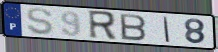8: (183, 18, 207, 45)
9: (59, 9, 83, 37)
B: (119, 13, 148, 42)
I: (163, 16, 172, 44)
R: (87, 9, 118, 41)
S: (25, 7, 55, 37)
